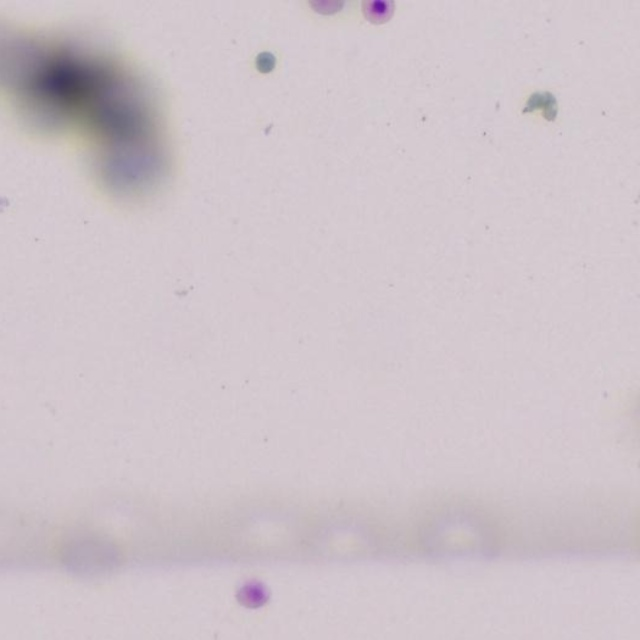intermediate: (355, 0, 397, 24), (235, 578, 268, 608), (308, 0, 345, 15)
non_viable: (255, 51, 276, 73)
